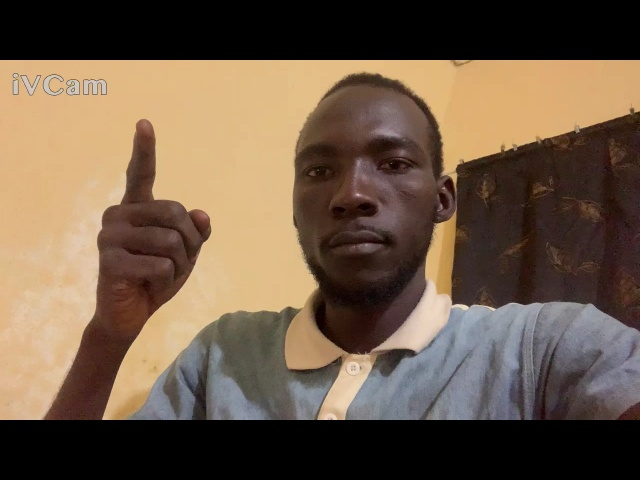tu: (84, 114, 214, 332)
